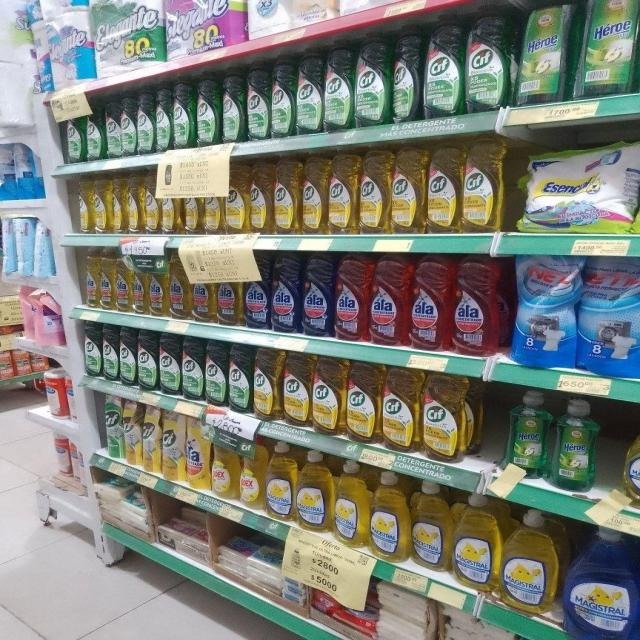ala_conc_amarillo: (217, 262, 243, 326), (169, 253, 191, 320), (192, 259, 215, 323), (148, 253, 168, 317), (81, 246, 99, 308), (115, 248, 132, 313), (132, 252, 148, 315), (100, 247, 114, 311)
ala_conc_azul: (302, 255, 332, 338), (271, 254, 300, 334), (243, 259, 270, 329)
ala_conc_rojo: (451, 257, 502, 356), (409, 257, 450, 351), (369, 256, 408, 346), (334, 255, 368, 342)
cif_conc_bot_amarilla: (422, 373, 468, 462), (462, 140, 502, 233), (381, 367, 420, 452), (426, 146, 461, 234), (391, 149, 425, 234), (346, 362, 380, 443), (312, 356, 344, 436), (359, 152, 389, 235), (328, 155, 357, 235), (282, 352, 310, 427), (301, 157, 327, 236), (273, 161, 300, 235), (253, 349, 281, 420), (224, 166, 248, 235), (250, 163, 272, 235), (143, 174, 160, 234), (127, 175, 142, 234)
cif_conc_botella_verde: (465, 9, 510, 112), (424, 19, 463, 118), (356, 37, 390, 127), (392, 28, 421, 122), (324, 46, 353, 131), (296, 52, 323, 134), (270, 59, 294, 138), (247, 66, 270, 141), (196, 77, 220, 147), (222, 72, 245, 144), (228, 344, 251, 413), (205, 339, 227, 408), (182, 335, 204, 401), (173, 82, 194, 150), (159, 332, 180, 396), (137, 328, 157, 391), (63, 105, 84, 163), (154, 86, 172, 152), (136, 90, 154, 155), (81, 320, 101, 378), (85, 103, 104, 161), (120, 95, 136, 156), (120, 326, 136, 386), (102, 324, 118, 382), (105, 98, 120, 158)
cif_conc_sachet_amarillo: (162, 410, 184, 482), (142, 406, 160, 473)
cif_conc_sachet_verde: (103, 395, 123, 460)
magistral_con_amarillo: (501, 509, 558, 613), (452, 492, 499, 592), (410, 479, 450, 572), (370, 471, 409, 562), (333, 459, 368, 548), (296, 449, 332, 533), (266, 441, 295, 522), (240, 436, 264, 508), (623, 420, 640, 510)
magistral_con_azul: (564, 527, 638, 640)
